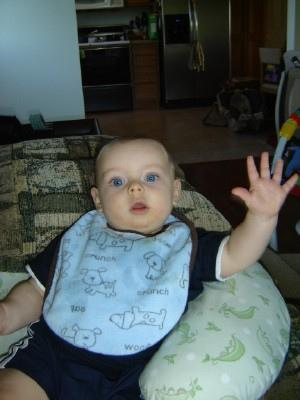person: (1, 136, 298, 400)
